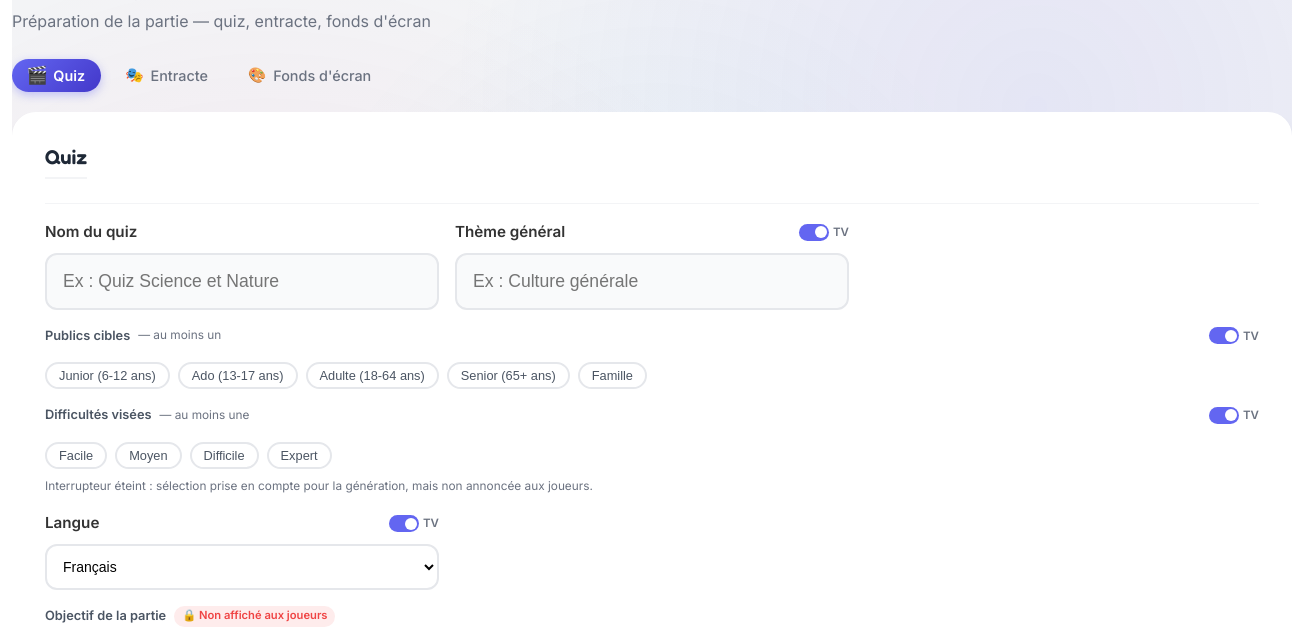
BackstagePage — onglet Entracte : mention "Prendra effet au prochain entracte" (C4-F2) › affiche la mention "Prendra effet au prochain entracte" pendant qu'un entracte est actif
This screenshot has width=1292, height=643.
Click the tab "🎭 Entracte".
click(167, 76)  # box x1=109 y1=59 x2=224 y2=92
(page scrolled)
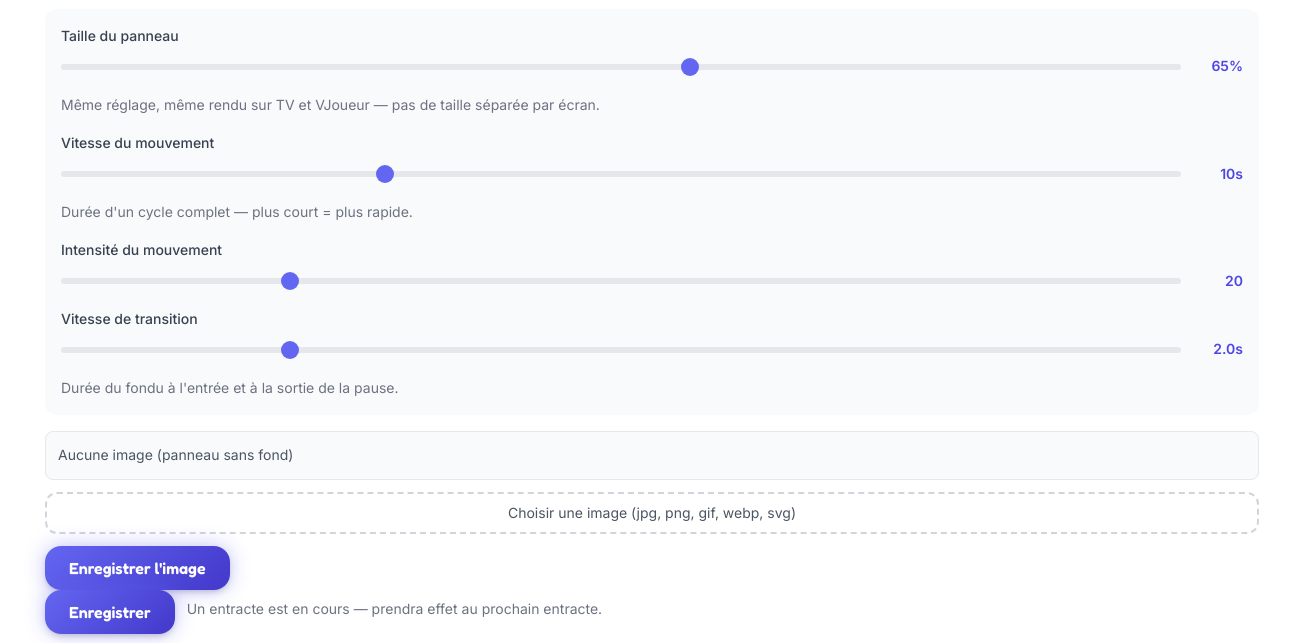
expect the text "Un entracte est en cours — prendra effet au prochain entracte." is shown: met, box x1=187 y1=600 x2=602 y2=617
